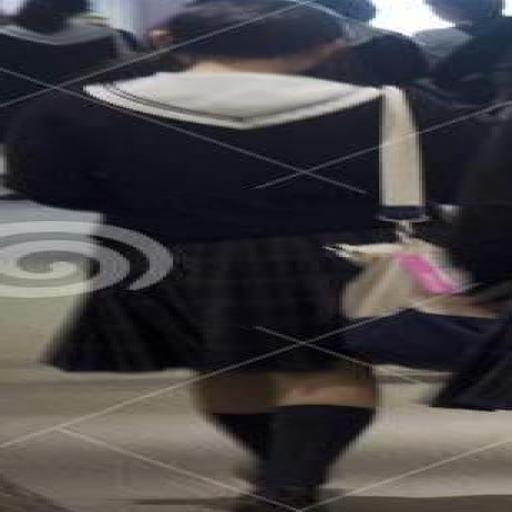person: (10, 0, 392, 511), (436, 123, 511, 410), (0, 0, 136, 143), (316, 0, 428, 86), (419, 0, 511, 104)
